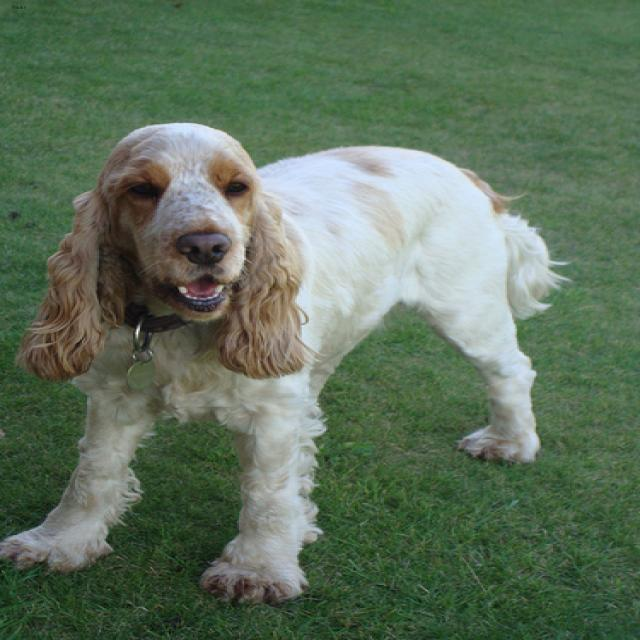dog-english_cocker_spaniel: (2, 109, 575, 617)
